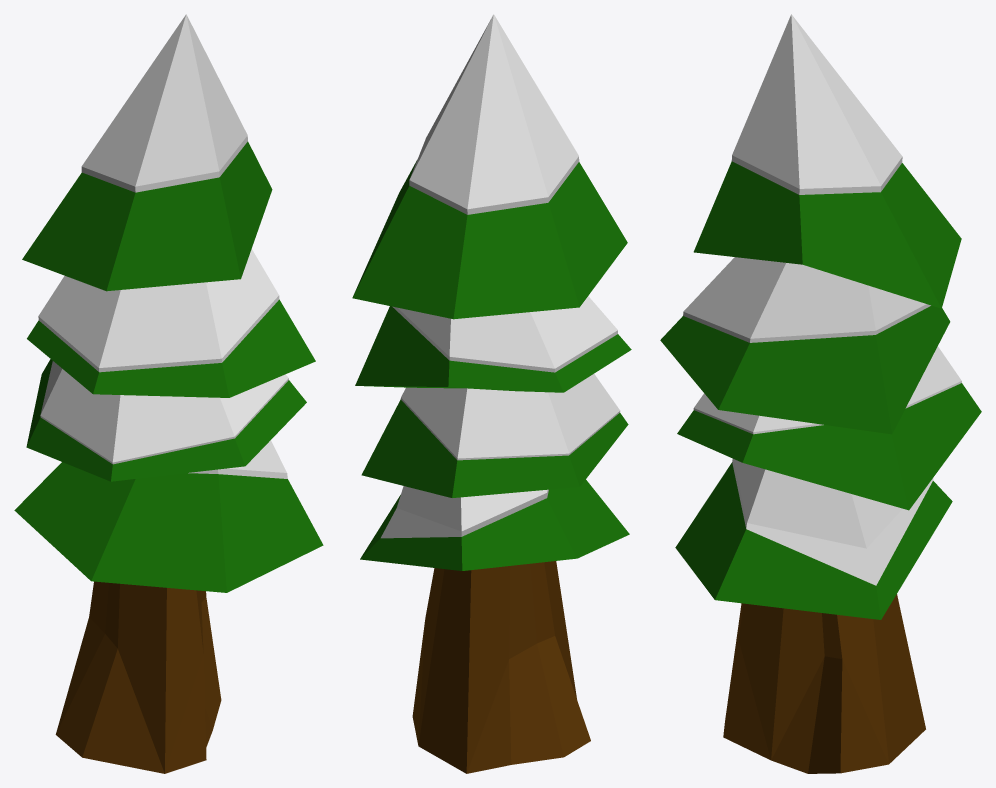
File: Pine tree#6_Snow.fbx
The picture shows the model from 3 angles, left to right: view 1: azimuth 30°, elevation 25°; view 2: azimuth 150°, elevation 25°; view 3: azimuth 270°, elevation 25°; orthographic projection. The views are drawn at different scales.
Visible parts, largest first — view 1: Pine tree#6_Snow; view 2: Pine tree#6_Snow; view 3: Pine tree#6_Snow.
Boxes of the visible parts, left/top/right/bottom form: Pine tree#6_Snow: left=14, top=14, right=323, bottom=773; Pine tree#6_Snow: left=352, top=14, right=631, bottom=773; Pine tree#6_Snow: left=660, top=14, right=981, bottom=773.
Size of the model in its own units: 444 by 1355 by 532.
